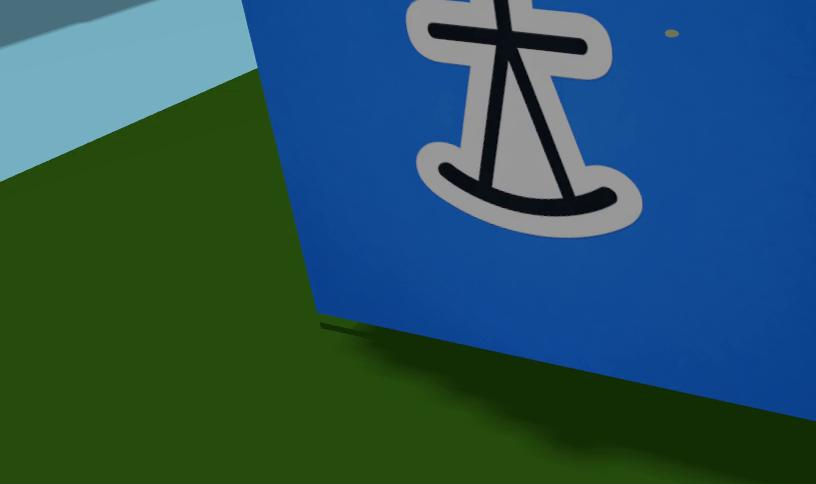KFS_REAL: (242, 0, 816, 417), (406, 0, 640, 237), (406, 0, 639, 236)
